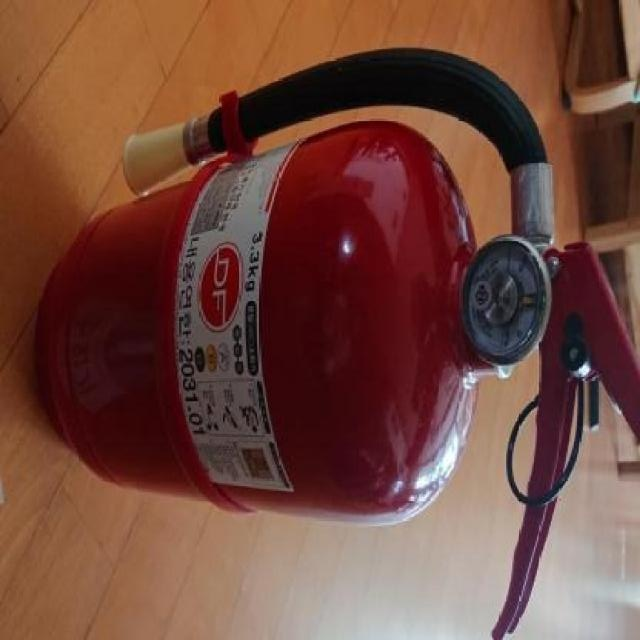fire extinguisher: (35, 49, 640, 640)
